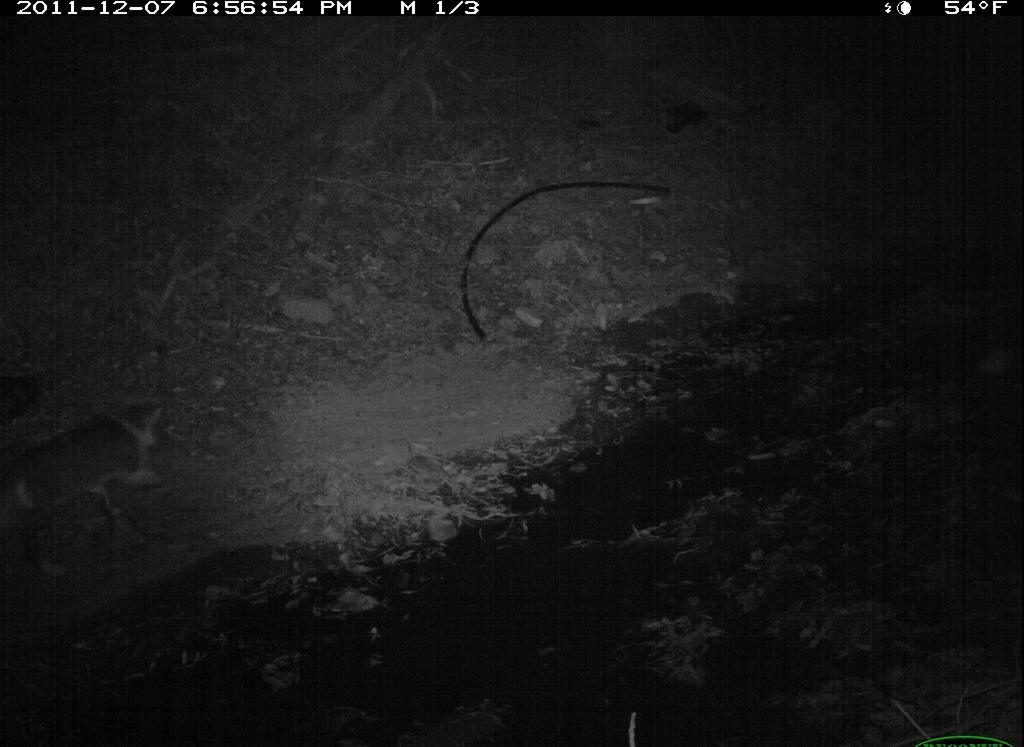cat: (3, 397, 165, 579)
